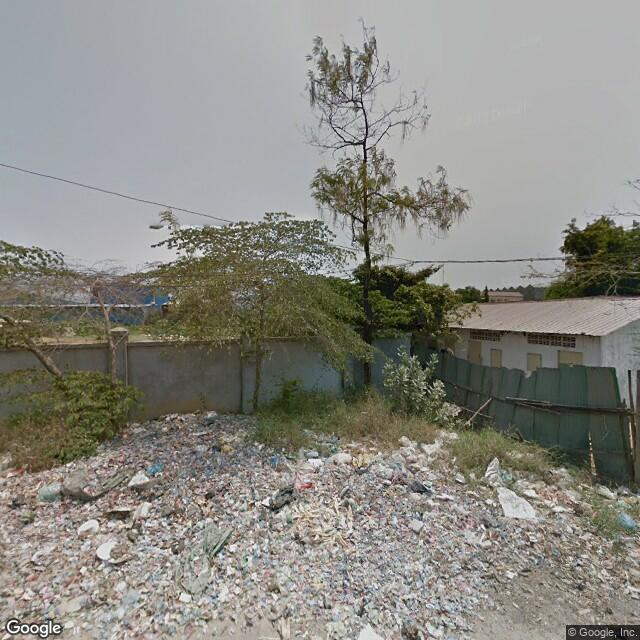litter: (485, 465, 535, 529), (81, 517, 144, 566), (309, 435, 374, 477), (258, 483, 327, 513), (198, 526, 239, 559), (35, 479, 90, 499), (607, 504, 640, 536), (124, 466, 163, 484), (199, 409, 222, 422)
